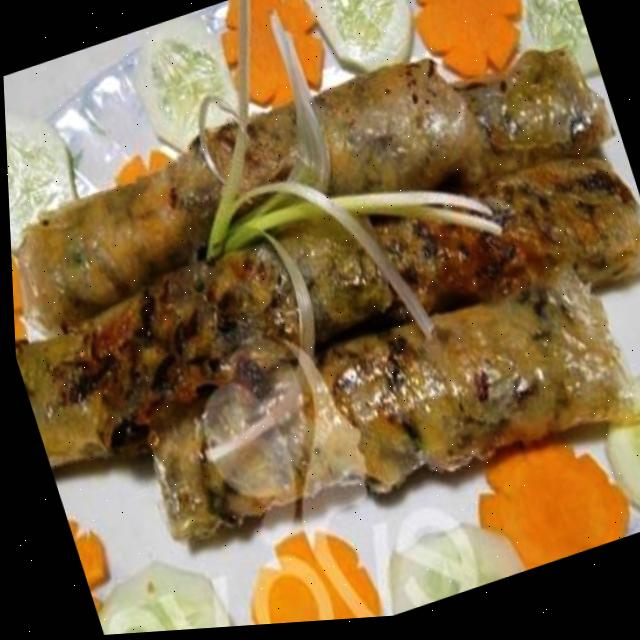炸货点心: (0, 0, 640, 612)
